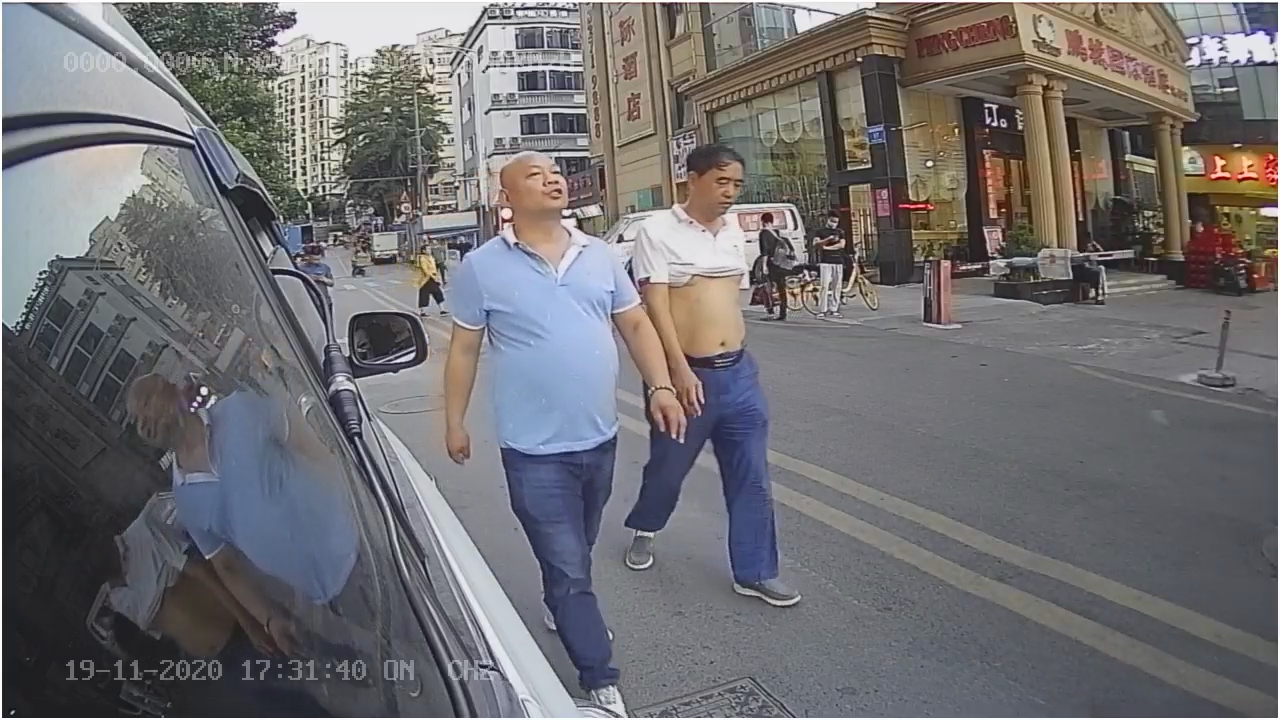person: (446, 148, 625, 506)
